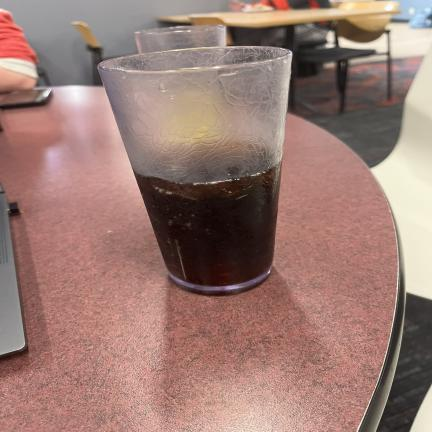container: (99, 47, 291, 293)
fluid: (135, 164, 281, 287)
fluid-surface: (139, 143, 275, 182)
